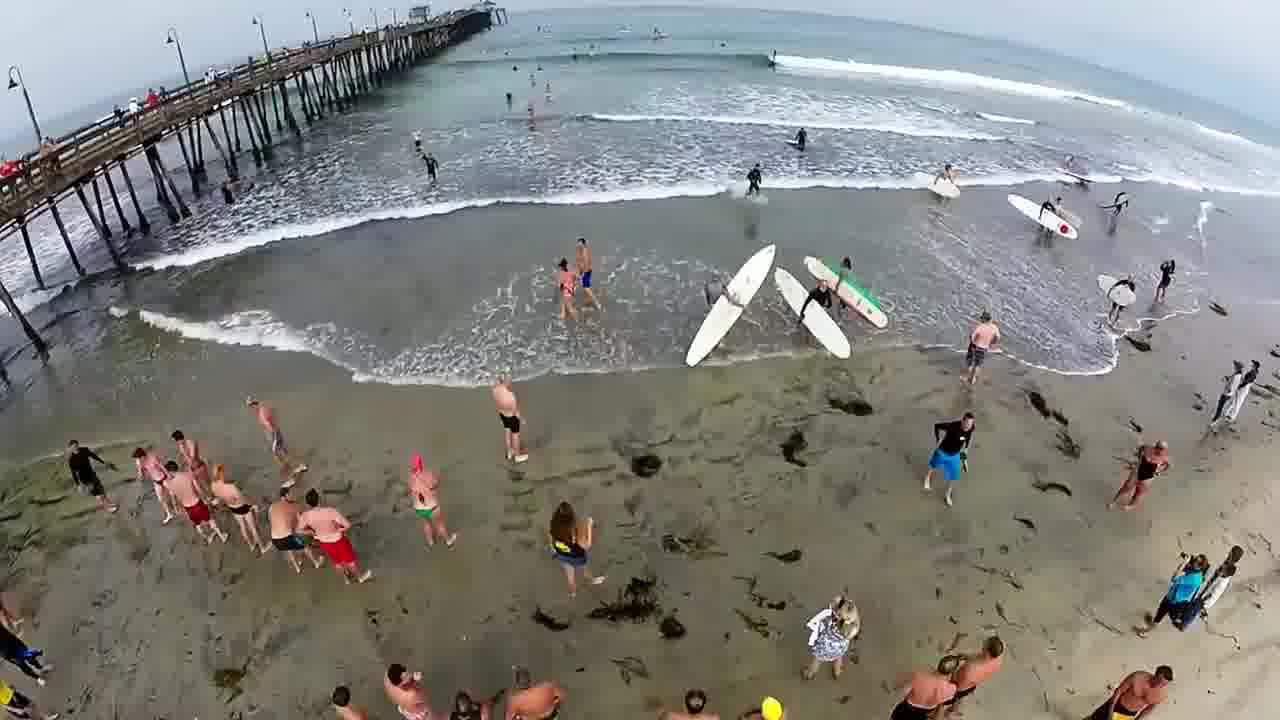swimmer: (735, 151, 773, 199), (416, 147, 451, 184), (789, 114, 808, 149)
